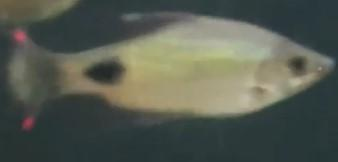Black Spotted Barb: (9, 10, 334, 134)
